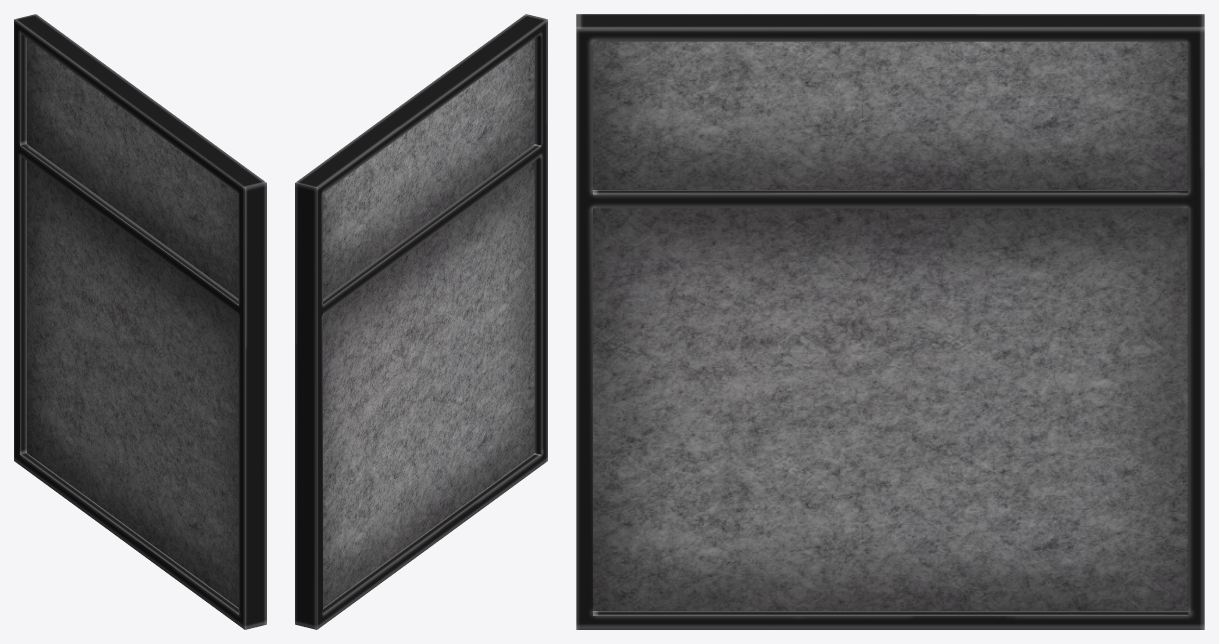
Rendered from obj-cubicle.fbx.
3 views of the same model, side by side, from view 1: azimuth 30°, elevation 25°; view 2: azimuth 150°, elevation 25°; view 3: azimuth 270°, elevation 25° (orthographic). The views are drawn at different scales.
Visible parts, largest first — view 1: pCube1; view 2: pCube1; view 3: pCube1.
Boxes of the visible parts, <box> form: pCube1: <box>14,14,266,629</box>; pCube1: <box>295,14,547,629</box>; pCube1: <box>576,14,1204,629</box>.
Bounding box in the file's own units: 0.7722 × 14.84 × 14.06.
Materials: 1 (1 with a texture image).
